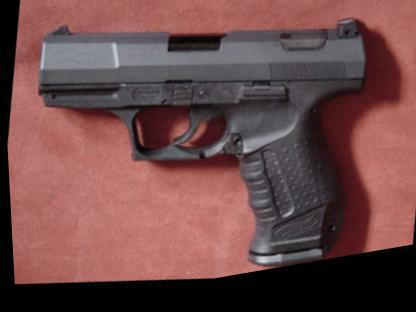pistol: (6, 0, 379, 310)
